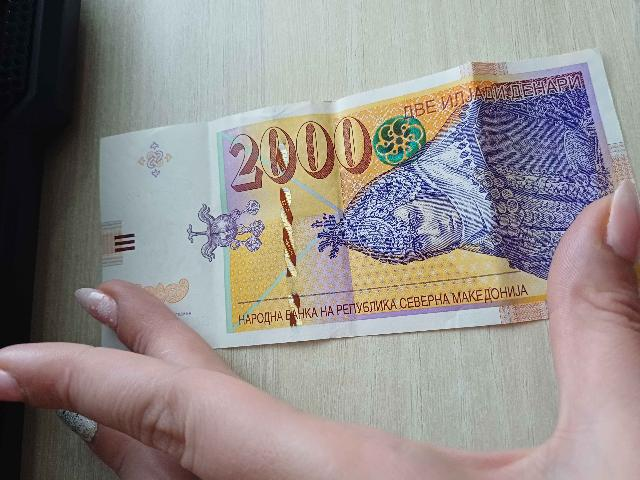note: (101, 51, 630, 346)
